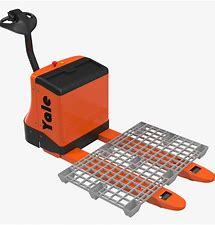Pallet Jack: (1, 9, 214, 218)
